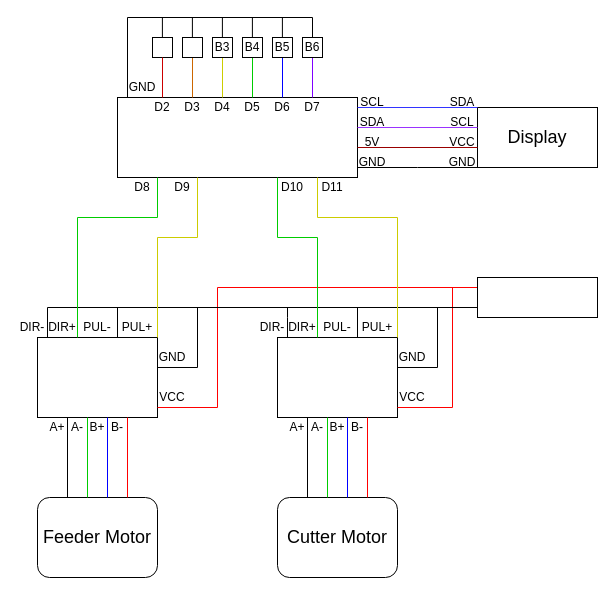
Some shapes in this 615 by 595 pixel diagram are drawn without their labels. Here are the shapes that lost their labels. From the top down, the box of each, then its label:
(152, 36, 172, 58): B1
(182, 36, 202, 58): B2
(116, 96, 358, 178): Arduino UNO R3
(476, 276, 598, 318): 12 VDC
